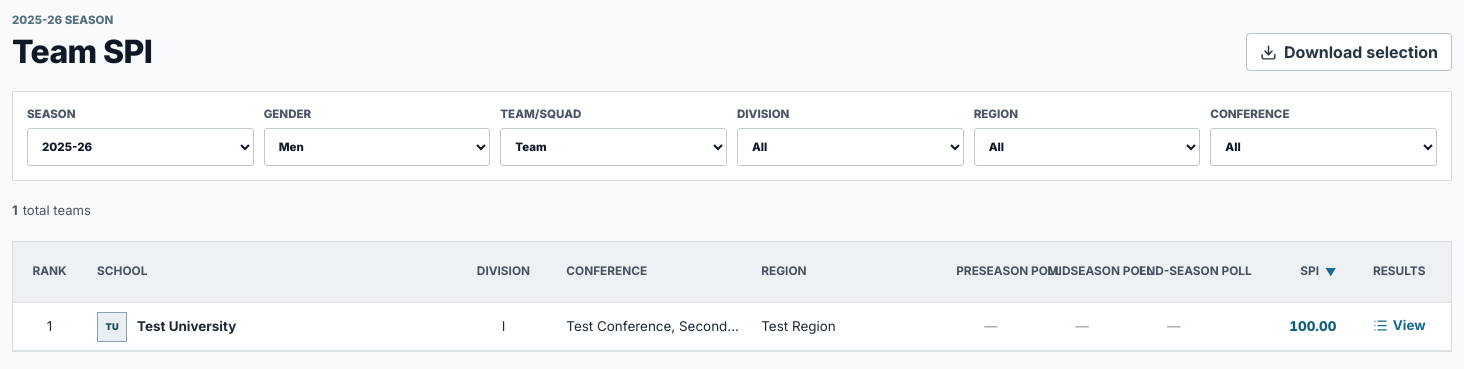
Test: StandingsPage › starts with men's Team SPI and selects one squad at a time
Expected: the heading "Team SPI" is shown, [12,34,152,71]
Expected: the cell "100.00" is shown, [1219,302,1347,350]
Select "Foil" in the dropdown labelled "Team/Squad": (614, 147) [500,128,727,166]
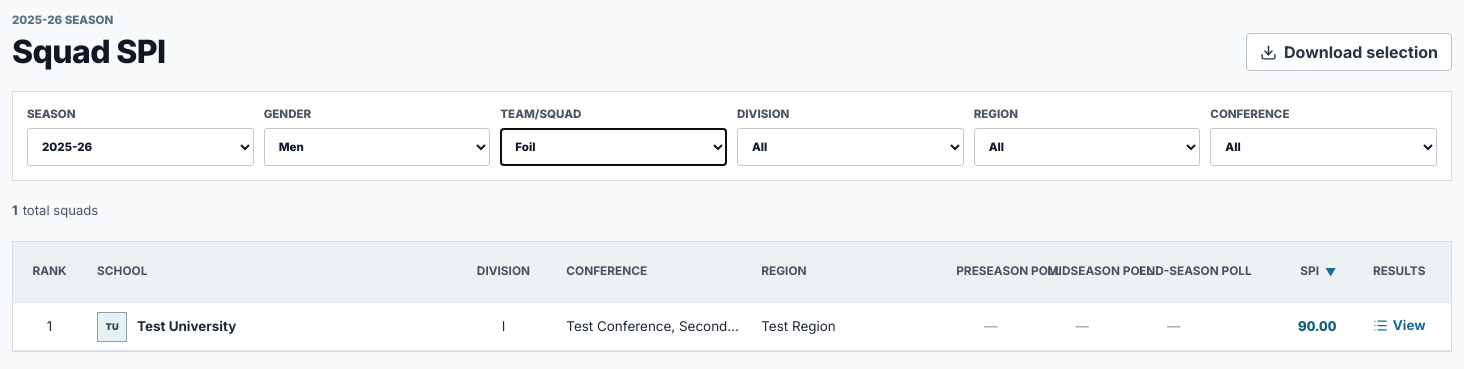
Result: the heading "Squad SPI" is shown at [12,34,166,71]
